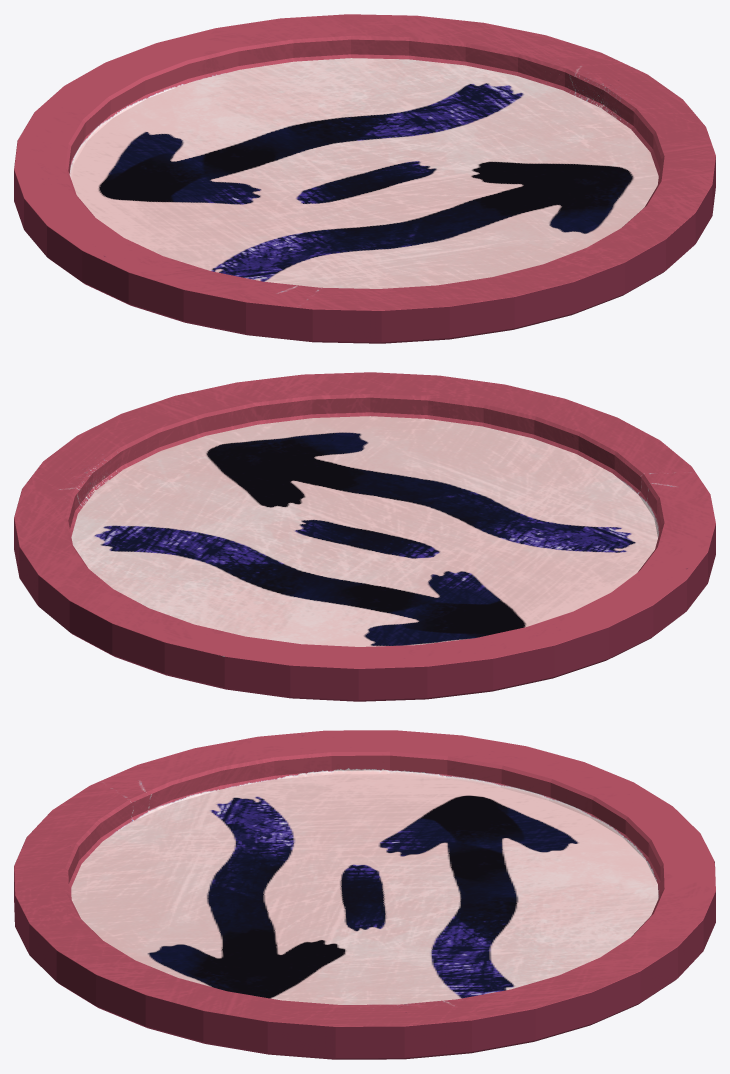
3 views of the same model, one above another, from view 1: azimuth 30°, elevation 25°; view 2: azimuth 150°, elevation 25°; view 3: azimuth 270°, elevation 25° (orthographic).
Visible parts, largest first — view 1: Cylinder.006; view 2: Cylinder.006; view 3: Cylinder.006.
Boxes of the visible parts, x1,y1,x2,y2 form: Cylinder.006: (14, 14, 715, 343); Cylinder.006: (14, 372, 715, 701); Cylinder.006: (14, 730, 715, 1059).
Size of the model in its own units: 199 by 10.74 by 199.
3 materials, 1 textured.
